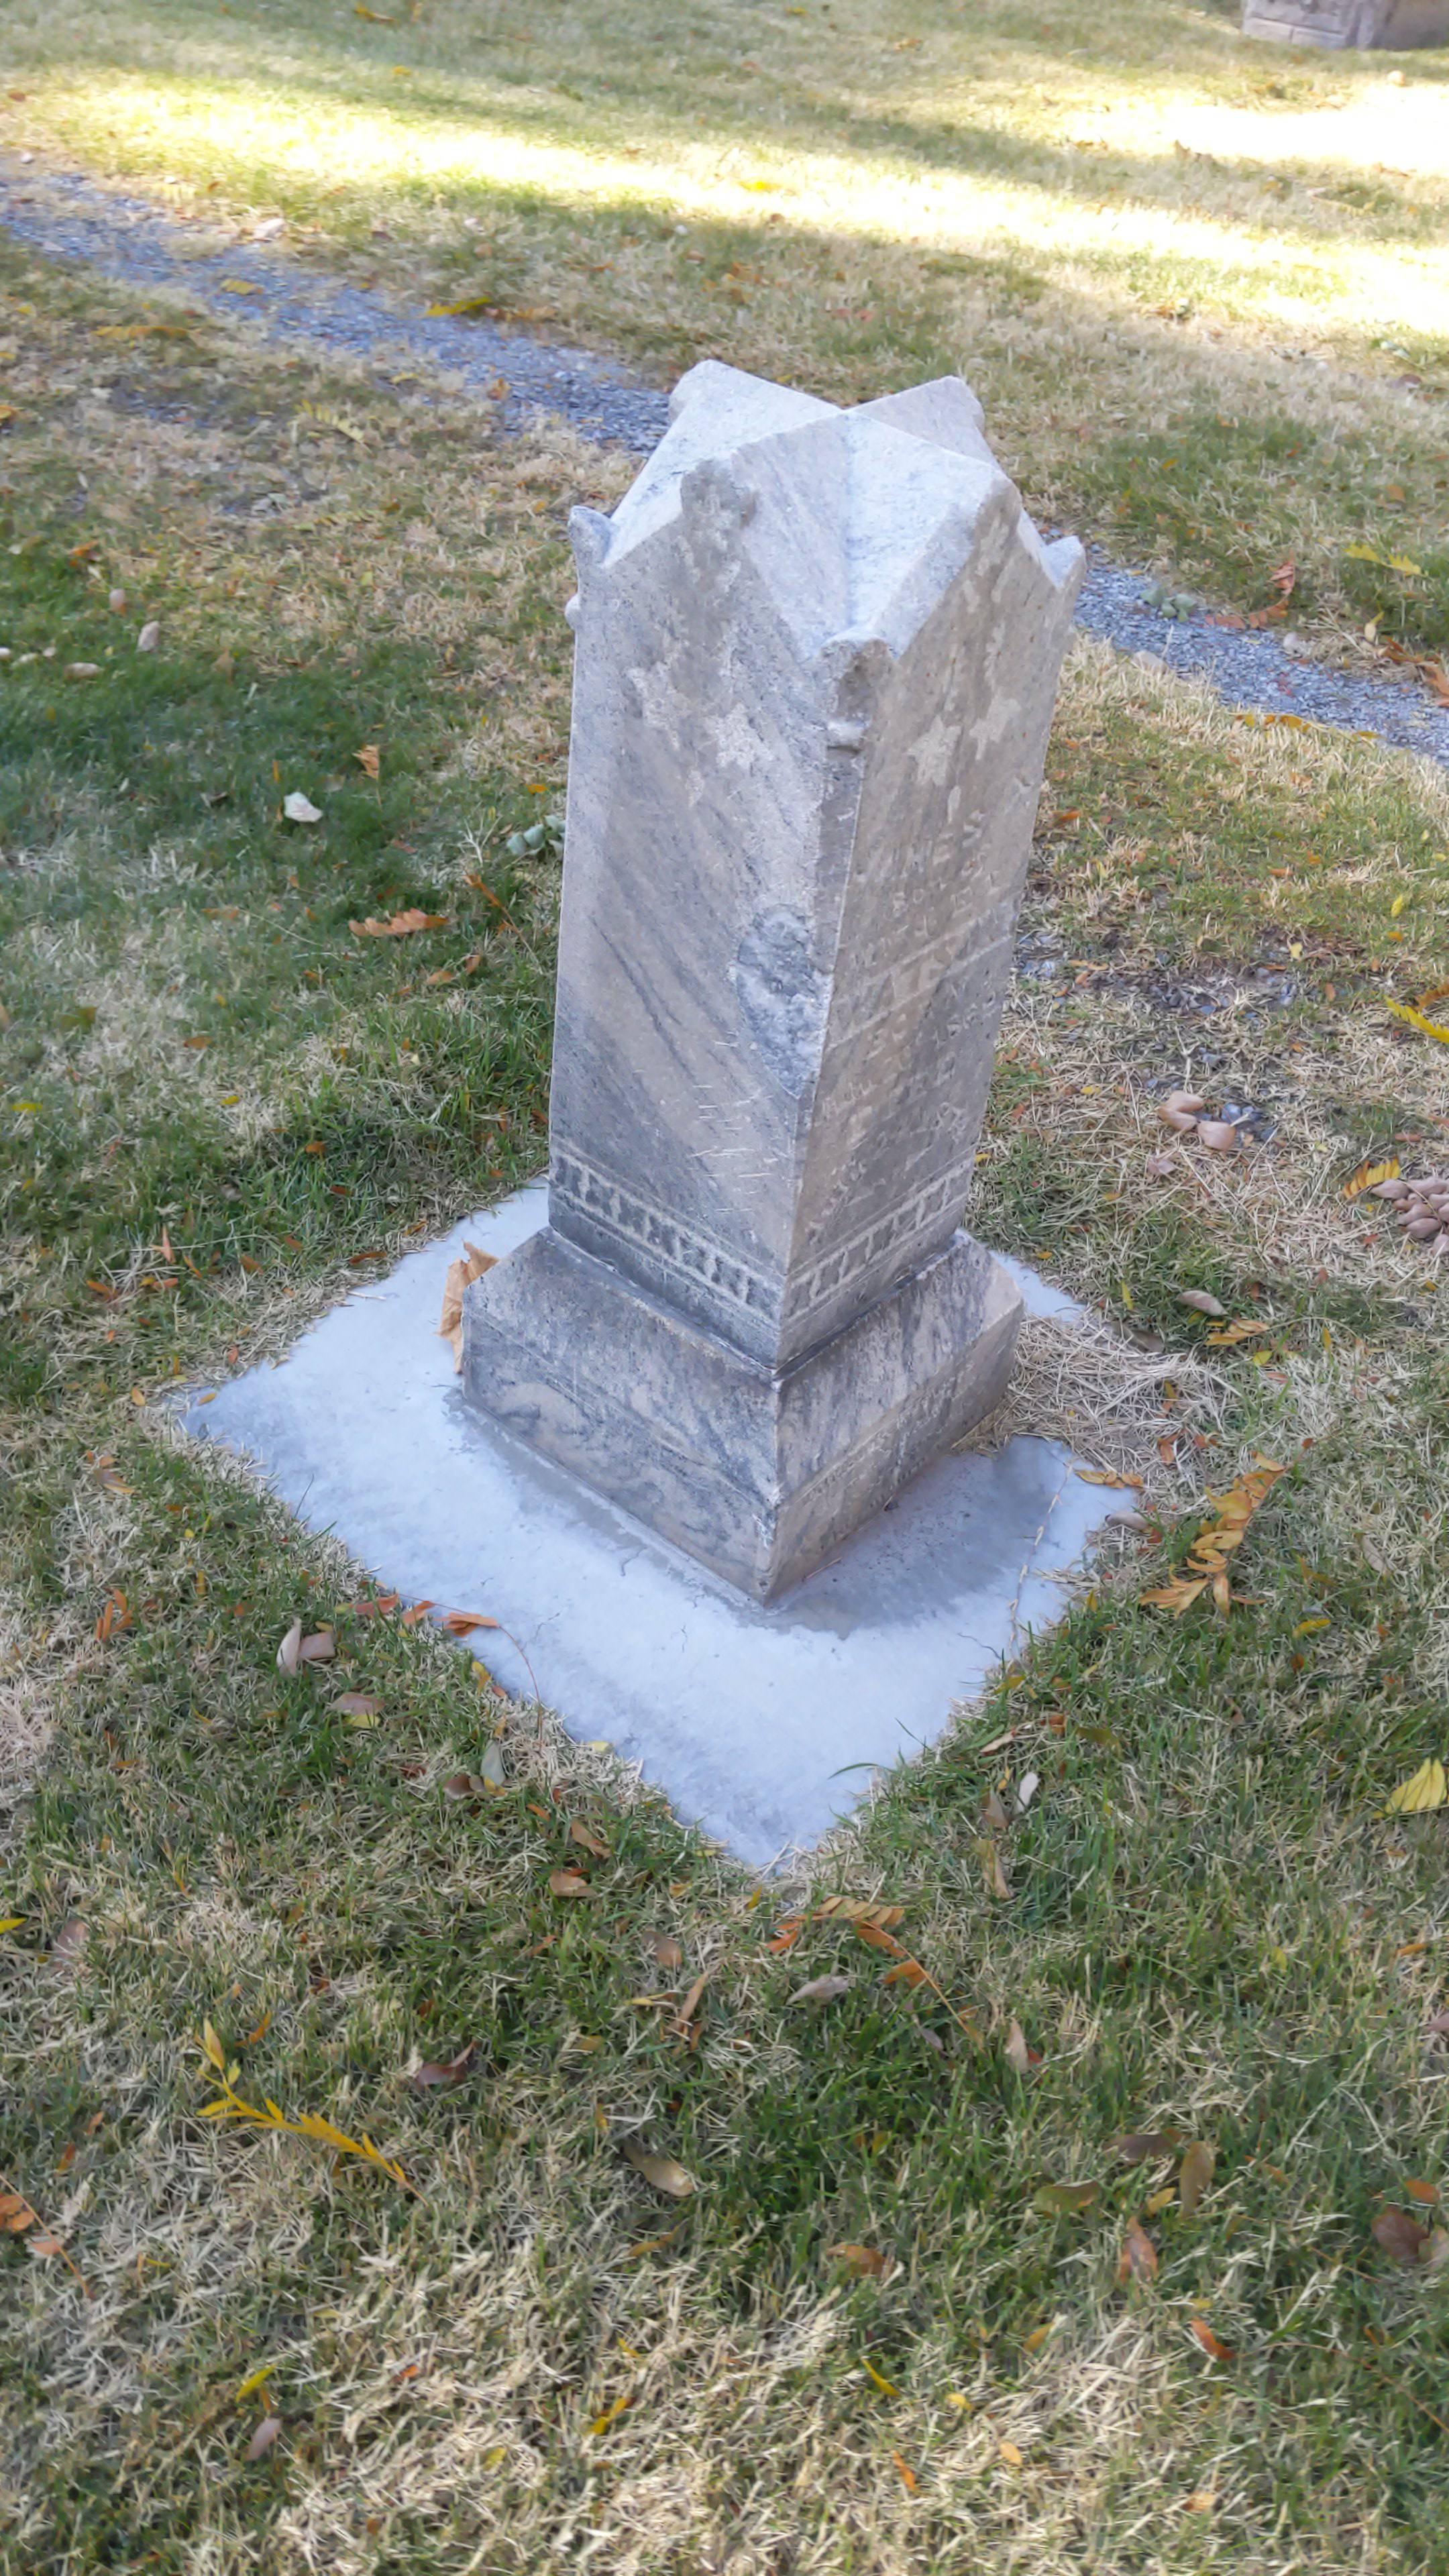obelisk: (458, 359, 1028, 1605)
